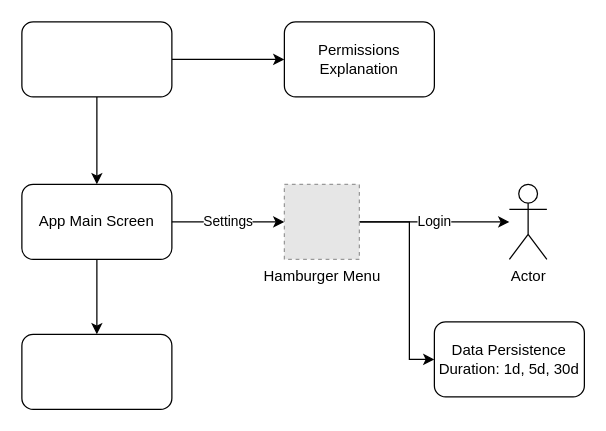
Some shapes in this 606 by 431 pixel diagram are drawn without their labels. Grey dashed boxes stand in for pictures. Each missing label, with the centre of its shape:
"Bolt History" belongs at point (96, 371).
"First Run Screen App Overview" belongs at point (96, 59).
